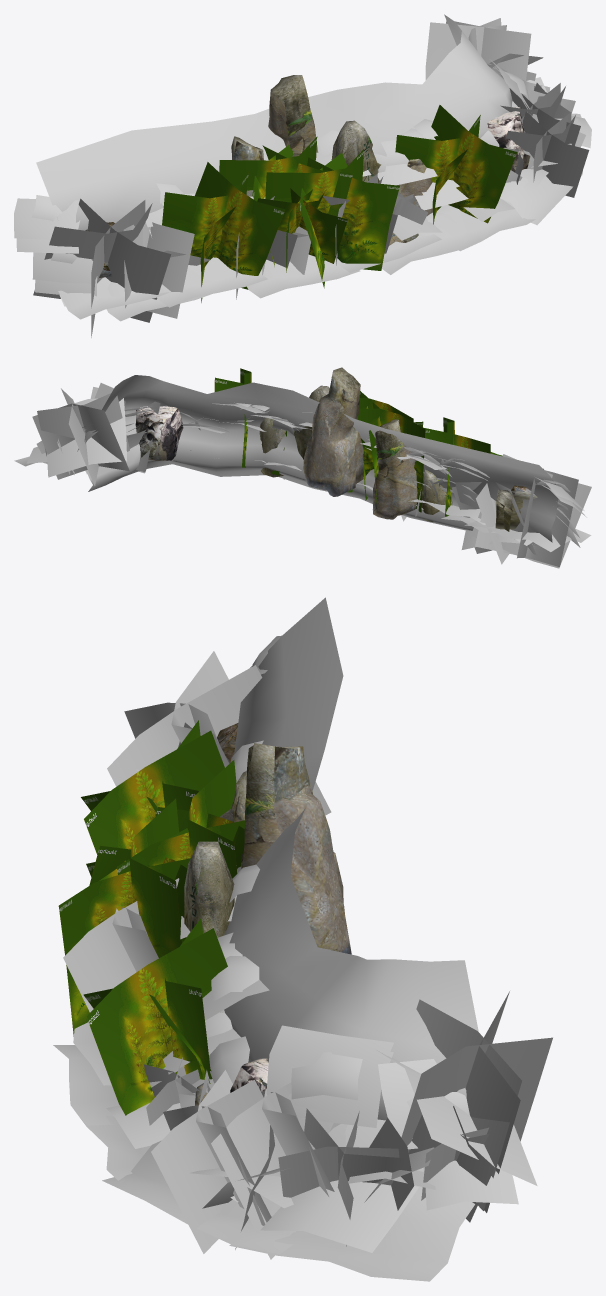
File: Prop_RuomuRock2.FBX
3 views of the same model, one above another, from view 1: azimuth 30°, elevation 25°; view 2: azimuth 150°, elevation 25°; view 3: azimuth 270°, elevation 25° (orthographic). The views are drawn at different scales.
Visible parts, largest first — view 1: Building_YulanjuNamem, Plane57, Prop_Rock3, Plane61, Plane54, Plane53; view 2: Building_YulanjuNamem, Prop_Rock3, Plane57, Plane61; view 3: Building_YulanjuNamem, Plane57, Prop_Rock3, Plane61.
Boxes of the visible parts, box(x1,y1,x2,y2) form: Building_YulanjuNamem: box(14, 14, 591, 337); Plane57: box(162, 105, 517, 302); Prop_Rock3: box(85, 75, 530, 277); Plane61: box(500, 83, 580, 145); Plane54: box(236, 196, 297, 299); Plane53: box(262, 226, 310, 274); Building_YulanjuNamem: box(14, 375, 591, 568); Prop_Rock3: box(135, 367, 537, 531); Plane57: box(214, 368, 502, 516); Plane61: box(90, 383, 160, 473); Building_YulanjuNamem: box(53, 597, 552, 1281); Plane57: box(58, 720, 244, 1115); Prop_Rock3: box(184, 723, 351, 1106); Plane61: box(211, 1082, 340, 1259).
Size of the model in its own units: 1188 by 484 by 350.
